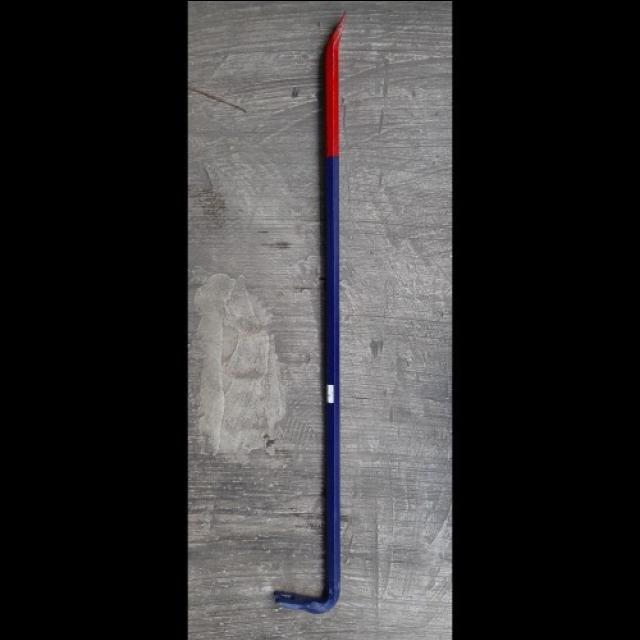Linggis: (269, 8, 357, 614)
